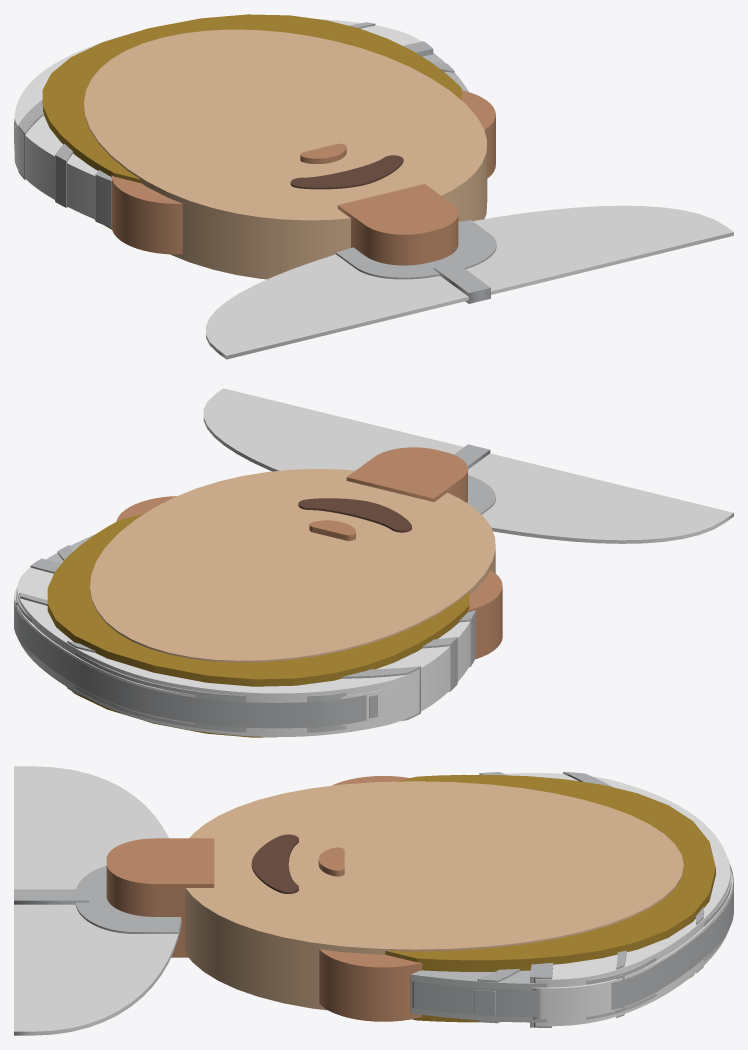
The model's file is emoji_u1f473_1f3fc_200d_2642.glb.
3 views of the same model, one above another, from view 1: azimuth 30°, elevation 25°; view 2: azimuth 150°, elevation 25°; view 3: azimuth 270°, elevation 25° (orthographic). The views are drawn at different scales.
Visible parts, largest first — view 1: emoji_u1f473_1f3fc_200d_2642; view 2: emoji_u1f473_1f3fc_200d_2642; view 3: emoji_u1f473_1f3fc_200d_2642.
Boxes of the visible parts, x1,y1,x2,y2 form: emoji_u1f473_1f3fc_200d_2642: (14, 14, 733, 359); emoji_u1f473_1f3fc_200d_2642: (14, 388, 733, 737); emoji_u1f473_1f3fc_200d_2642: (14, 766, 733, 1035).
Bounding box in the file's own units: 0.0294 × 0.004 × 0.0337.
